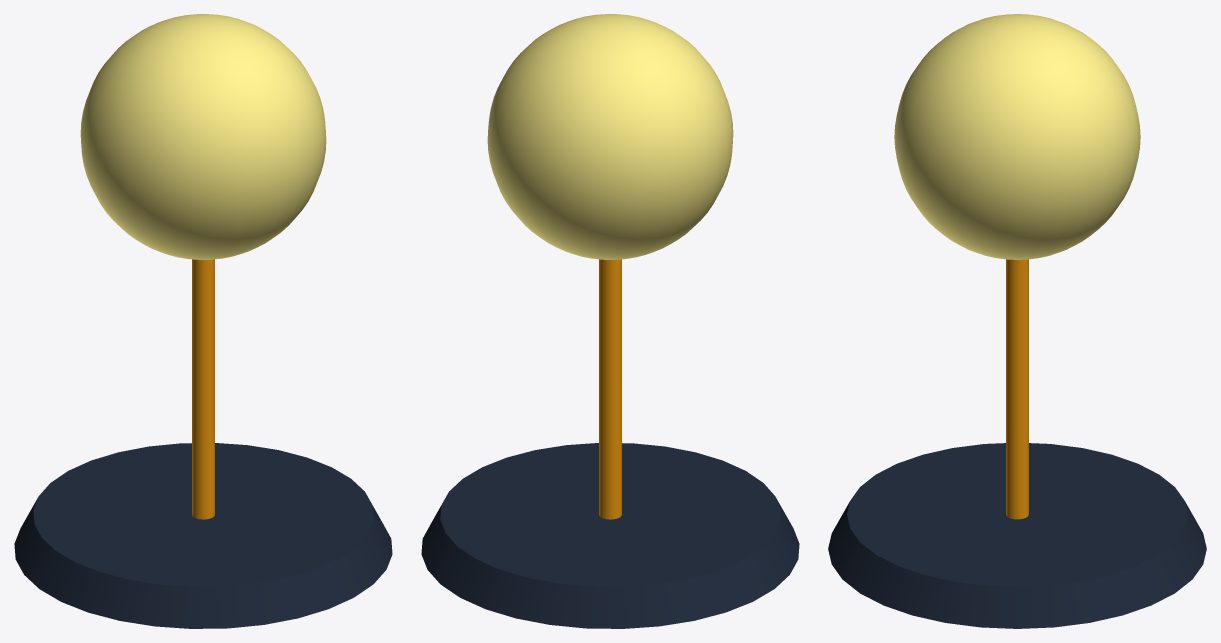
Rendered from aether-aura-lamp.glb.
3 views of the same model, side by side, from view 1: azimuth 30°, elevation 25°; view 2: azimuth 150°, elevation 25°; view 3: azimuth 270°, elevation 25° (orthographic).
Visible parts, largest first — view 1: LampBase, DiffuserShade, BrassStem; view 2: LampBase, DiffuserShade, BrassStem; view 3: LampBase, DiffuserShade, BrassStem.
Part boxes in pixels (bbox=[...]): LampBase: bbox=[14, 443, 392, 628]; DiffuserShade: bbox=[80, 14, 326, 259]; BrassStem: bbox=[192, 259, 214, 519]; LampBase: bbox=[421, 443, 799, 628]; DiffuserShade: bbox=[487, 14, 733, 259]; BrassStem: bbox=[599, 259, 621, 519]; LampBase: bbox=[828, 443, 1206, 628]; DiffuserShade: bbox=[894, 14, 1140, 259]; BrassStem: bbox=[1006, 259, 1028, 519].
Bounding box in the file's own units: 2 × 3.05 × 2.
